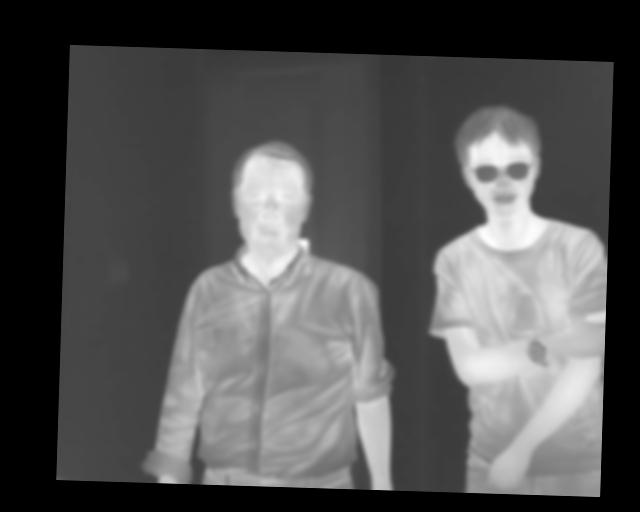face: (229, 137, 315, 263), (454, 104, 543, 221)
